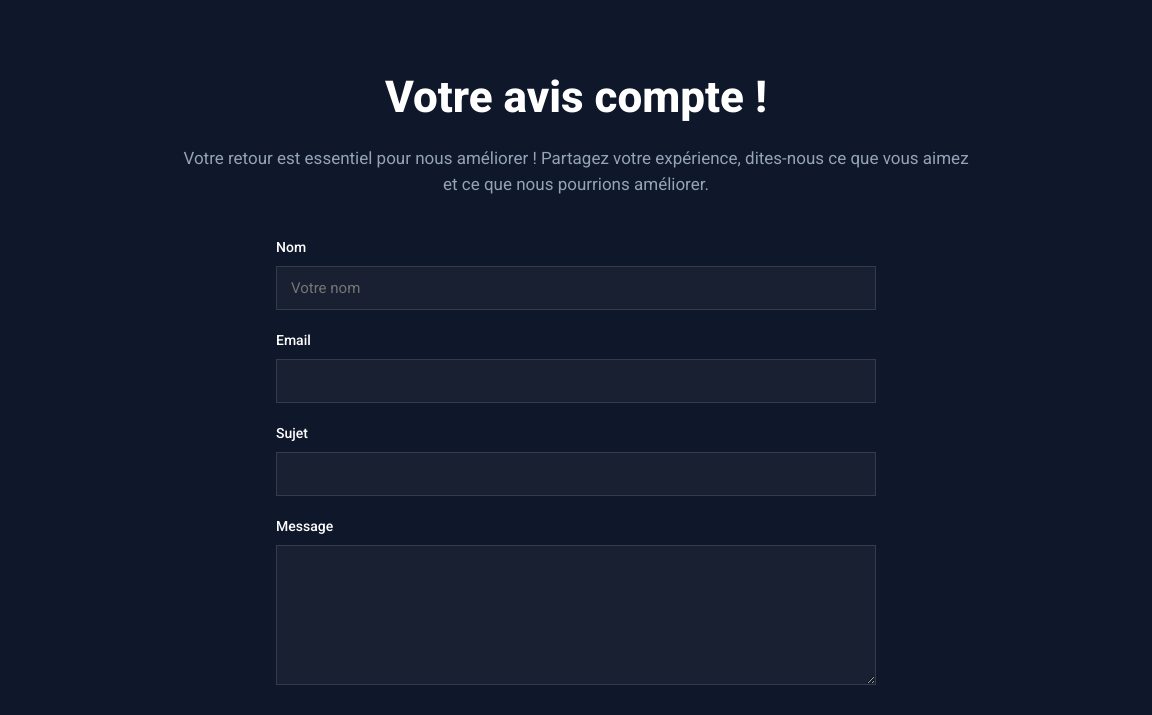
Contact › affiche une erreur si l'API échoue
Type "Jean" into the field labelled "Nom" at (576, 288), box [276,266,876,310]
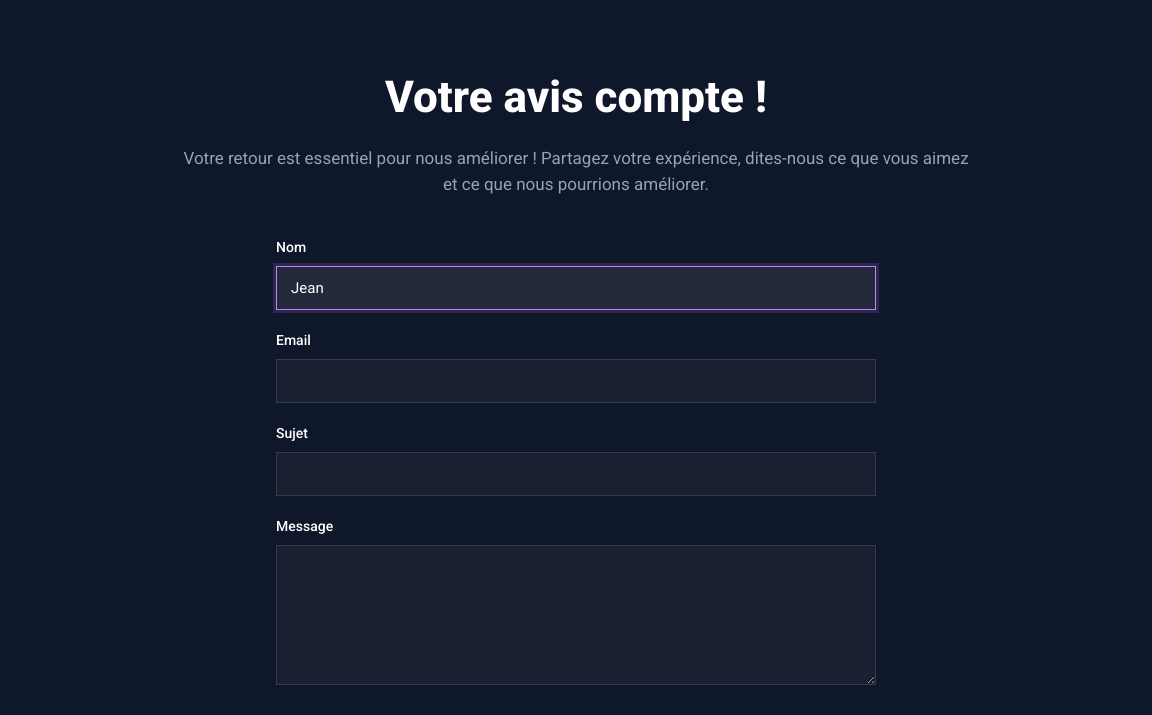
Type "jean@weeb.local" into the field labelled "Email" at (576, 381), box [276,359,876,403]
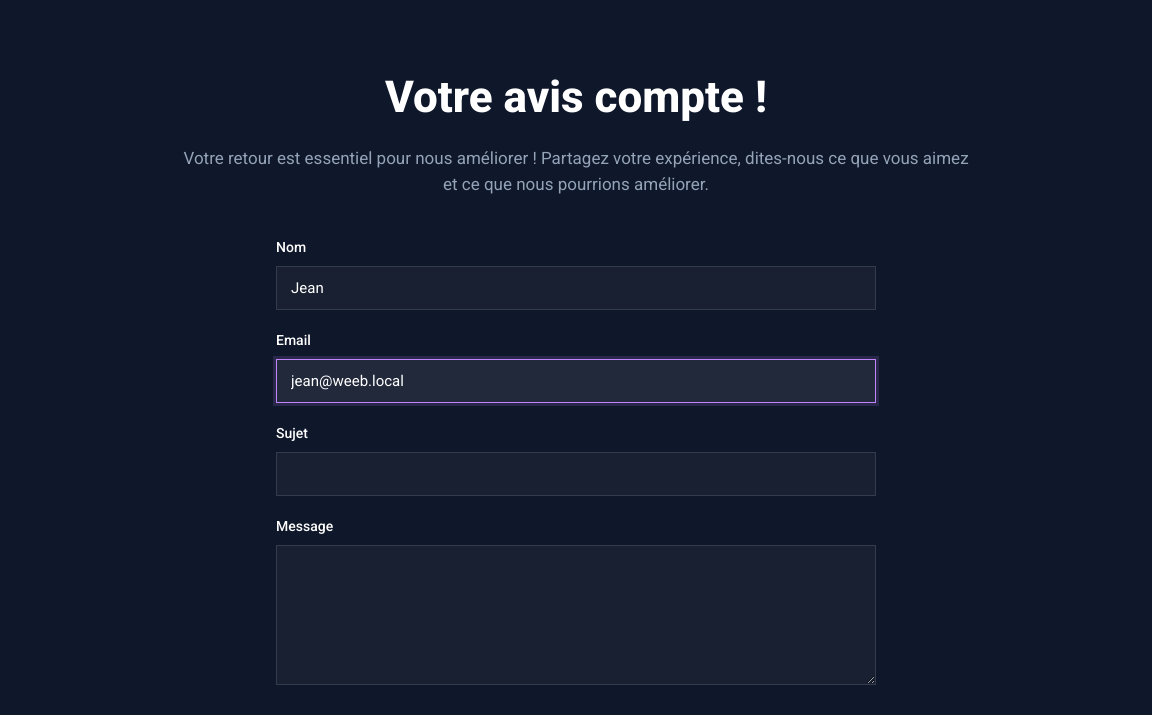
Type "Test" into the field labelled "Sujet" at (576, 474), box [276,452,876,496]
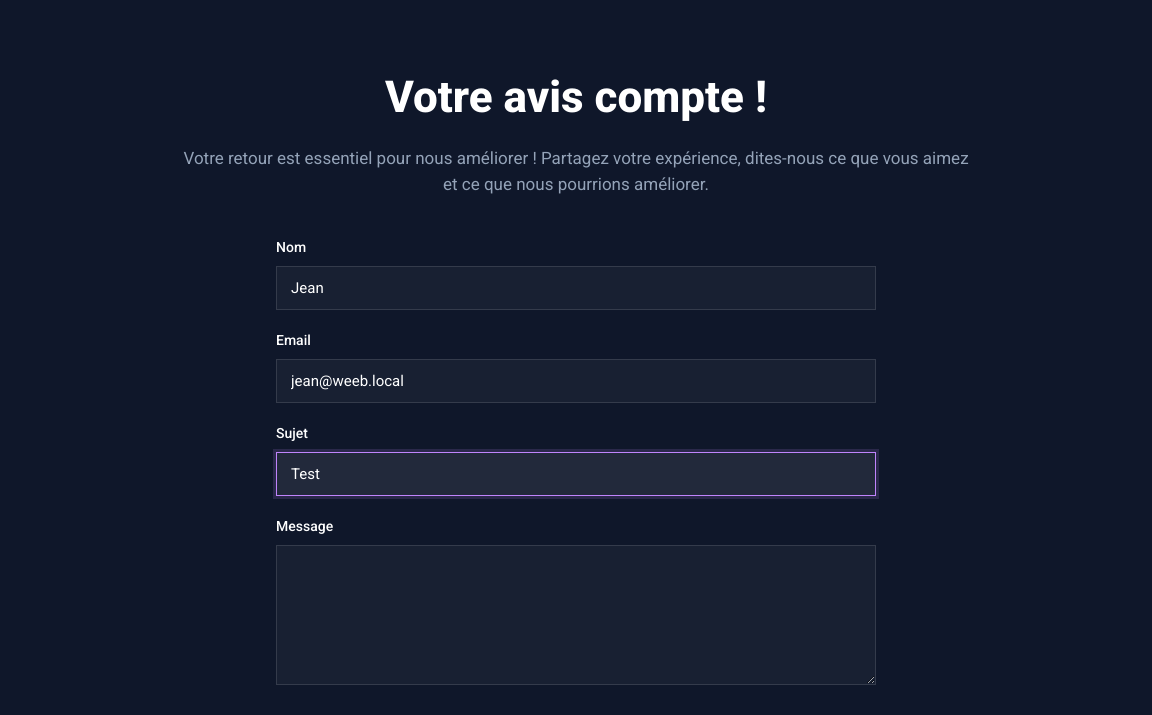
Type "Msg" into the text box labelled "Message" at (576, 615), box [276,545,876,685]
(page scrolled)
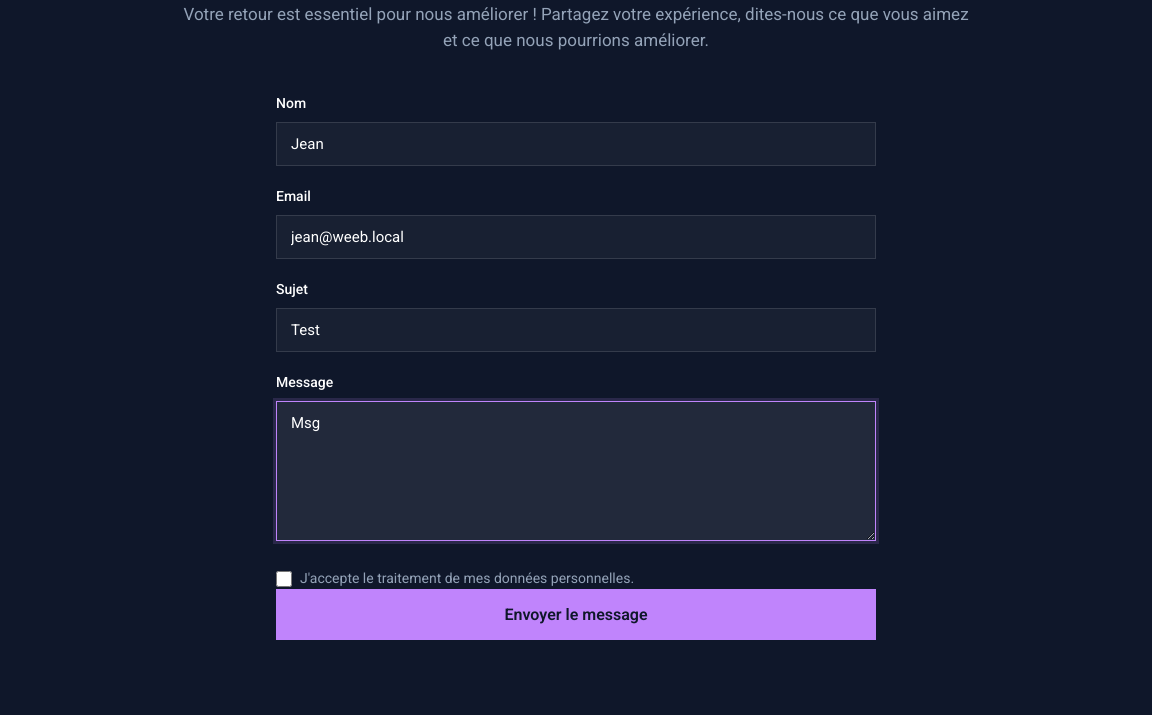
Click the checkbox at (284, 578), box [276,570,292,586]
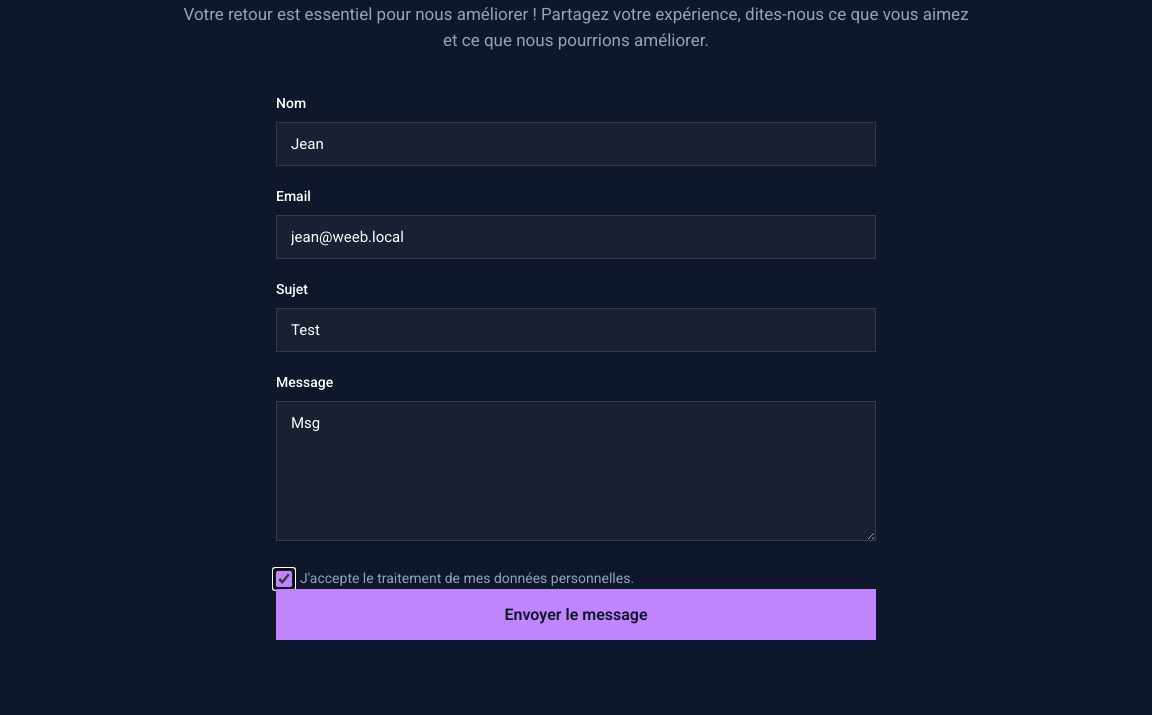
Click the button "Envoyer le message" at (576, 614), box [276,589,876,640]
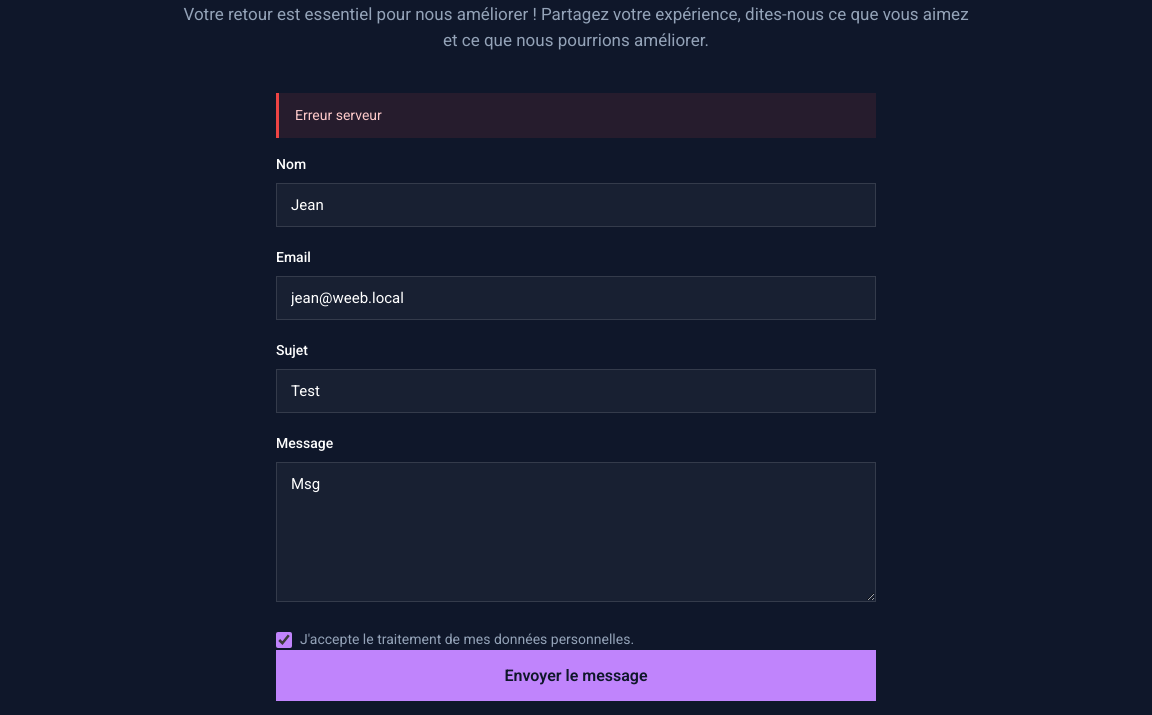
Expected: the text "Erreur serveur" is shown, [276,93,876,138]
